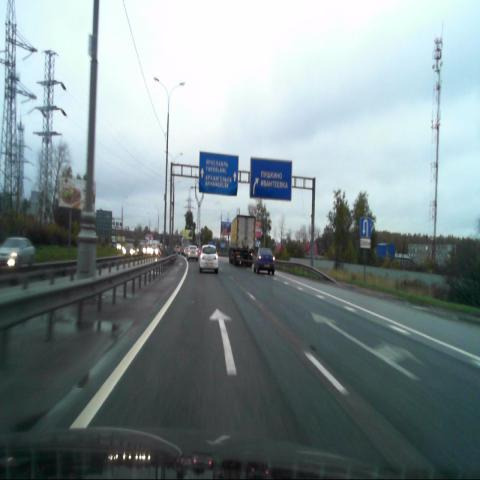6_3_1: (360, 217, 371, 237)
